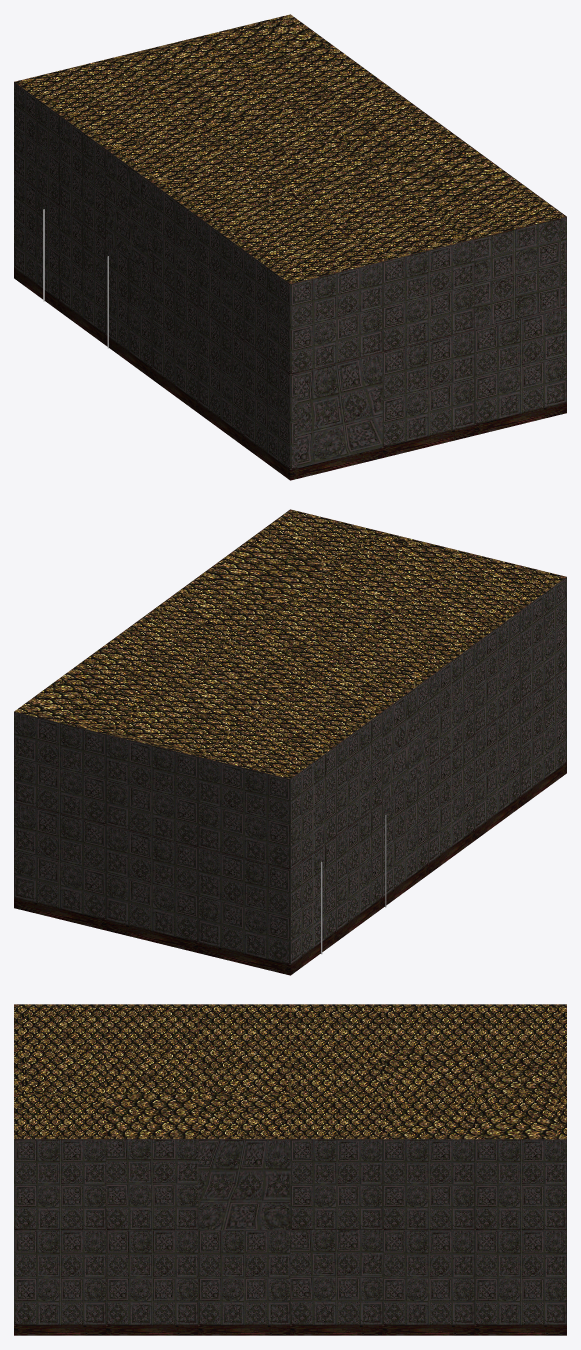
Rendered from RoomSquare.fbx.
3 views of the same model, one above another, from view 1: azimuth 30°, elevation 25°; view 2: azimuth 150°, elevation 25°; view 3: azimuth 270°, elevation 25° (orthographic).
Visible parts, largest first — view 1: RoomSquare; view 2: RoomSquare; view 3: RoomSquare.
Part boxes in pixels (x1,y1,x2,y2): RoomSquare: (14, 14, 566, 480); RoomSquare: (14, 509, 566, 975); RoomSquare: (14, 1004, 566, 1335).
Bounding box in the file's own units: 5.22 × 3.54 × 9.
